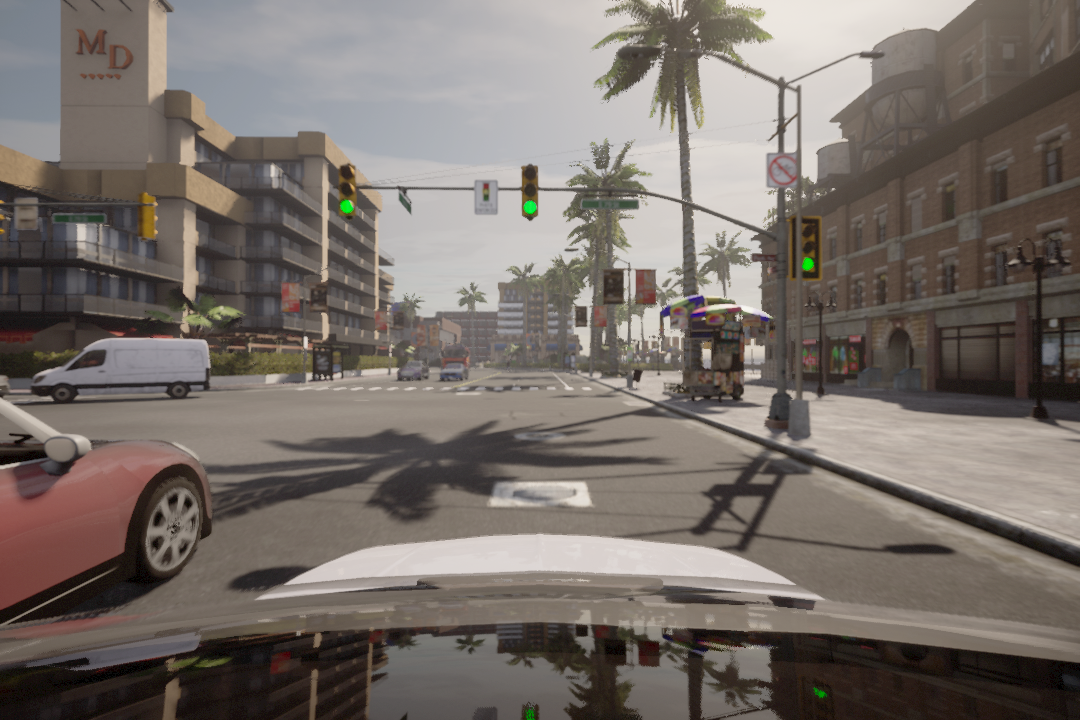TrafficLight: (791, 214, 823, 276), (337, 162, 357, 217), (522, 164, 542, 218)
TrafficSign: (767, 151, 800, 190)
walkside: (297, 384, 601, 393)
